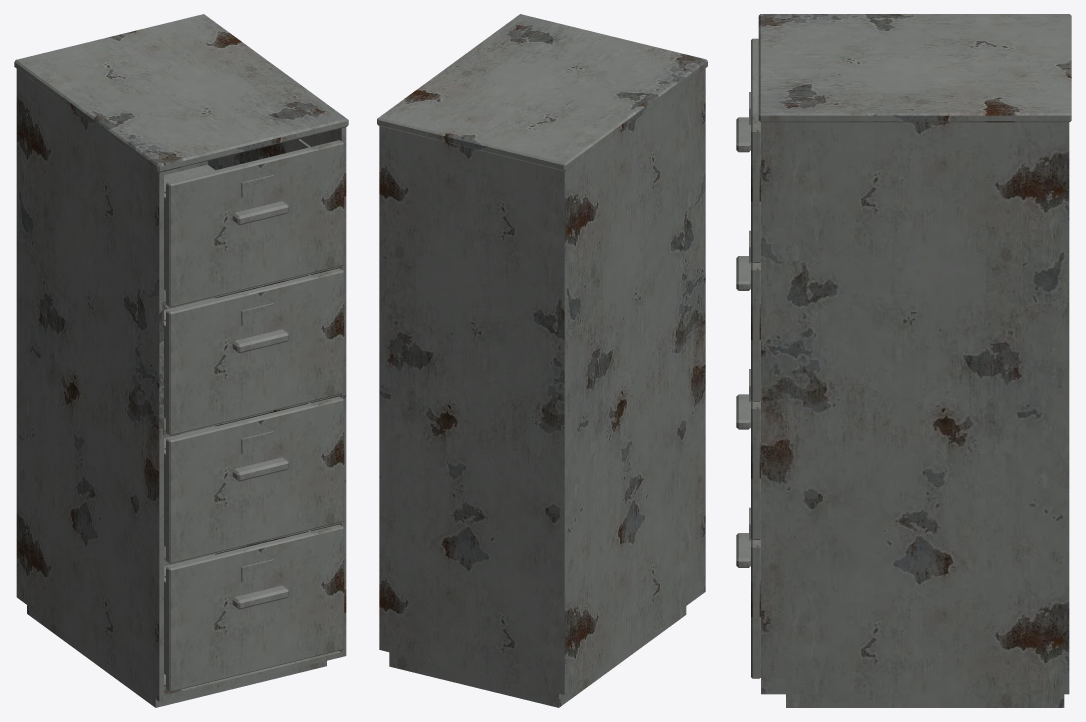
File: metal-cabinet.glb
3 renders of one model, left to right at view 1: azimuth 30°, elevation 25°; view 2: azimuth 150°, elevation 25°; view 3: azimuth 270°, elevation 25°, orthographic. The views are drawn at different scales.
Parts seen in each view (by area): view 1: Body, Drawer4, Drawer3, Drawer1, Drawer2; view 2: Body; view 3: Body, Drawer4, Drawer2, Drawer1, Drawer3.
Boxes of the visible parts, x1,y1,x2,y2 form: Body: [14, 14, 348, 707]; Drawer4: [164, 138, 344, 307]; Drawer3: [164, 268, 344, 435]; Drawer1: [164, 524, 344, 691]; Drawer2: [164, 396, 344, 563]; Body: [377, 14, 707, 707]; Body: [758, 14, 1071, 707]; Drawer4: [736, 38, 760, 262]; Drawer2: [736, 369, 760, 539]; Drawer1: [736, 507, 760, 678]; Drawer3: [736, 230, 760, 401].
Size of the model in its own units: 0.48 by 1.33 by 0.675.
1 material, 1 textured.
